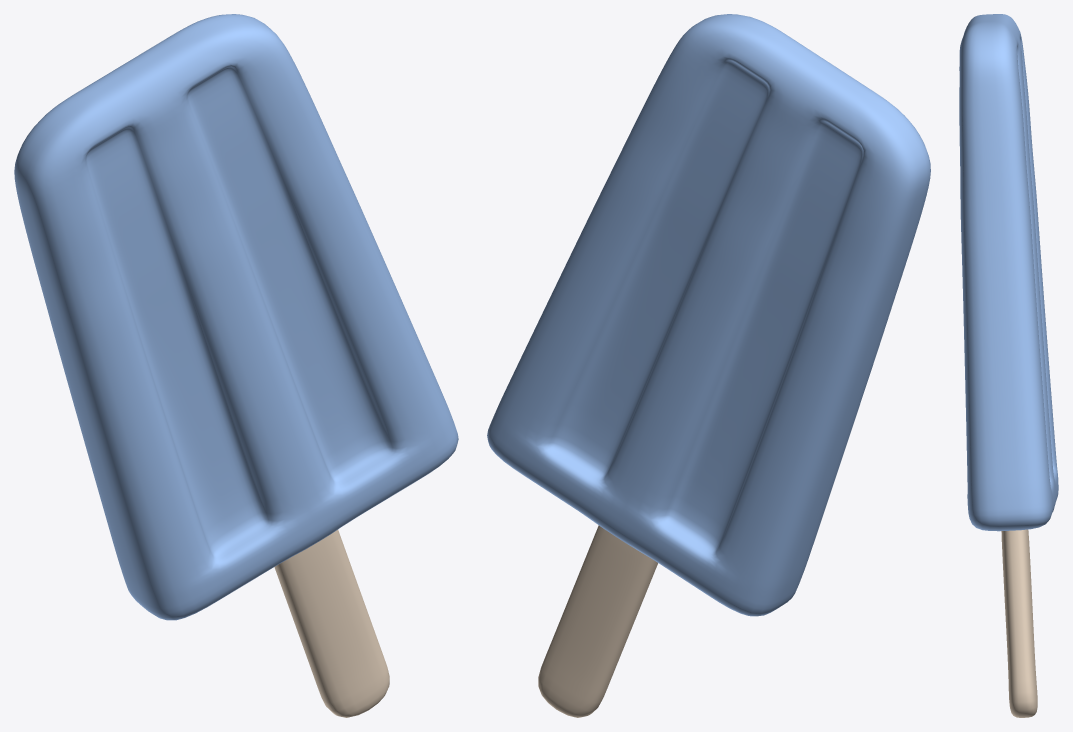
The model's file is Billy Gun.fbx.
The picture shows the model from 3 angles, left to right: view 1: azimuth 30°, elevation 25°; view 2: azimuth 150°, elevation 25°; view 3: azimuth 270°, elevation 25°; orthographic projection. The views are drawn at different scales.
Parts seen in each view (by area): view 1: Object_2_mesh0, Object_3_mesh0; view 2: Object_2_mesh0, Object_3_mesh0; view 3: Object_2_mesh0, Object_3_mesh0.
Part boxes in pixels (x1,y1,x2,y2): Object_2_mesh0: (14,14,458,620); Object_3_mesh0: (274,530,389,717); Object_2_mesh0: (487,14,930,616); Object_3_mesh0: (538,525,657,717); Object_2_mesh0: (959,14,1058,531); Object_3_mesh0: (1001,529,1037,717).
Size of the model in its own units: 217 by 356 by 51.55.
